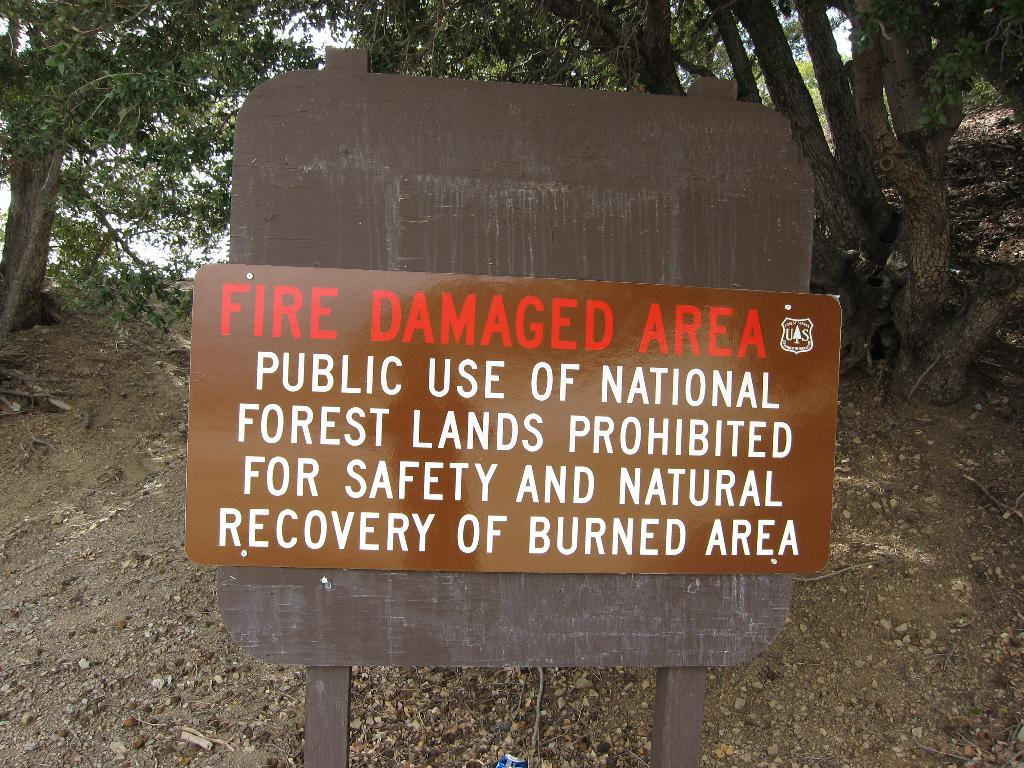Tree: (319, 0, 1023, 398), (1, 0, 324, 341)
